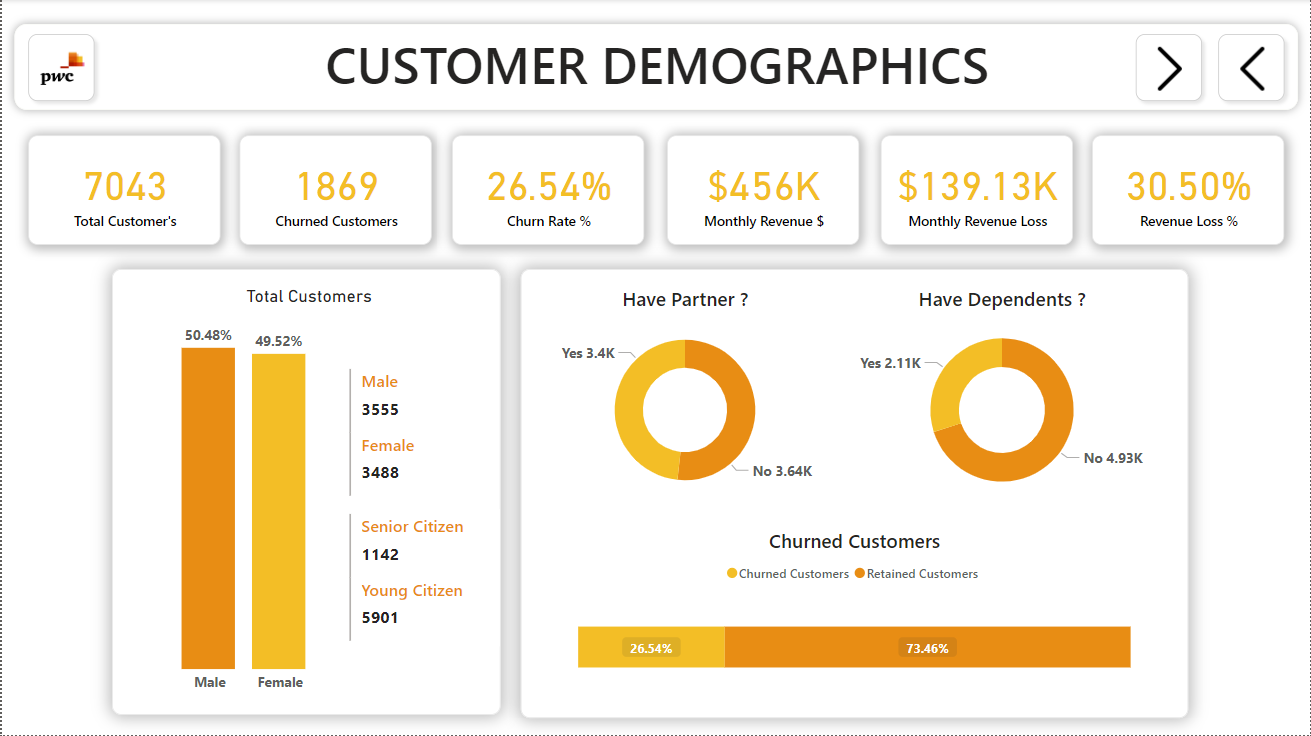

This screenshot's page, from the dashboard's own definition file:
{"tool":"powerbi","page":{"name":"CUSTOMER DEMOGRAPHICS","canvas":[1280,720],"ordinal":1},"visuals":[{"type":"textbox","box":[107,263.5,380.1,436.4],"z":0},{"type":"card","fields":{"Values":["ChurnDataset.Total Customers"]},"box":[26.1,133.1,188,107],"z":1000},{"type":"card","fields":{"Values":["ChurnDataset.Churn Rate"]},"box":[440.5,133.1,188,107],"z":2000},{"type":"textbox","title":"CUSTOMER DEMOGRAPHICS","box":[12.3,24.7,1255.6,83.7],"z":3000},{"type":"image","box":[26.1,34.3,64.5,65.9],"z":4000},{"type":"image","box":[1108.8,34.3,64.5,65.9],"z":5000},{"type":"image","box":[1189.2,34.3,64.5,65.9],"z":6000},{"type":"card","fields":{"Values":["ChurnDataset.Churned Customers"]},"box":[231.9,133.1,188,107],"z":7000},{"type":"card","fields":{"Values":["Sum(ChurnDataset.MonthlyCharges)"]},"box":[650.4,133.1,188,107],"z":8000},{"type":"card","fields":{"Values":["ChurnDataset.Revenue Loss %"]},"box":[1066.2,133.1,188,107],"z":9000},{"type":"columnChart","title":"Total Customers","fields":{"Y":["ChurnDataset.Total Customers"],"Category":["ChurnDataset.Gender"]},"box":[108.4,279.9,258,407.5],"z":10000},{"type":"multiRowCard","fields":{"Values":["ChurnDataset.Total Customers","ChurnDataset.Gender"]},"box":[334.5,356.5,93.3,134.5],"z":11000},{"type":"multiRowCard","fields":{"Values":["ChurnDataset.CitizenshipStatus","ChurnDataset.Total Customers"]},"box":[334.5,499.2,152.3,134.5],"z":12000},{"type":"textbox","box":[507.7,263.5,653.2,439.1],"z":13000},{"type":"donutChart","title":"Have Partner ?","fields":{"Category":["ChurnDataset.Partner"],"Y":["ChurnDataset.Total Customers"]},"box":[521.4,279.9,292.3,219.6],"z":14000},{"type":"donutChart","title":"Have Dependents ?","fields":{"Y":["ChurnDataset.Total Customers"],"Category":["ChurnDataset.Dependents"]},"box":[813.7,279.9,328,219.6],"z":15000},{"type":"hundredPercentStackedBarChart","title":"Churned Customers ","fields":{"Y":["ChurnDataset.Churned Customers","ChurnDataset.Retained Customers"]},"box":[558.5,517.3,550.3,172.9],"z":16000},{"type":"card","fields":{"Values":["ChurnDataset.Monthly Revenue Loss"]},"box":[859,133.1,188,107],"z":17000}]}

Visuals, with their boxes in screenshot pixels (x1, y1, x2, y2), scaled from the page's 1280x720 canvas onto the 1311x736 screenshot:
textbox: detection(110, 269, 499, 715)
card - ChurnDataset.Total Customers: detection(27, 136, 219, 245)
card - ChurnDataset.Churn Rate: detection(451, 136, 644, 245)
"CUSTOMER DEMOGRAPHICS" textbox: detection(13, 25, 1299, 111)
image: detection(27, 35, 93, 102)
image: detection(1136, 35, 1202, 102)
image: detection(1218, 35, 1284, 102)
card - ChurnDataset.Churned Customers: detection(238, 136, 430, 245)
card - Sum(ChurnDataset.MonthlyCharges): detection(666, 136, 859, 245)
card - ChurnDataset.Revenue Loss %: detection(1092, 136, 1285, 245)
"Total Customers" columnChart: detection(111, 286, 375, 703)
multiRowCard - ChurnDataset.Total Customers x ChurnDataset.Gender: detection(343, 364, 438, 502)
multiRowCard - ChurnDataset.CitizenshipStatus x ChurnDataset.Total Customers: detection(343, 510, 499, 648)
textbox: detection(520, 269, 1189, 718)
"Have Partner ?" donutChart: detection(534, 286, 833, 511)
"Have Dependents ?" donutChart: detection(833, 286, 1169, 511)
"Churned Customers " hundredPercentStackedBarChart: detection(572, 529, 1136, 706)
card - ChurnDataset.Monthly Revenue Loss: detection(880, 136, 1072, 245)
